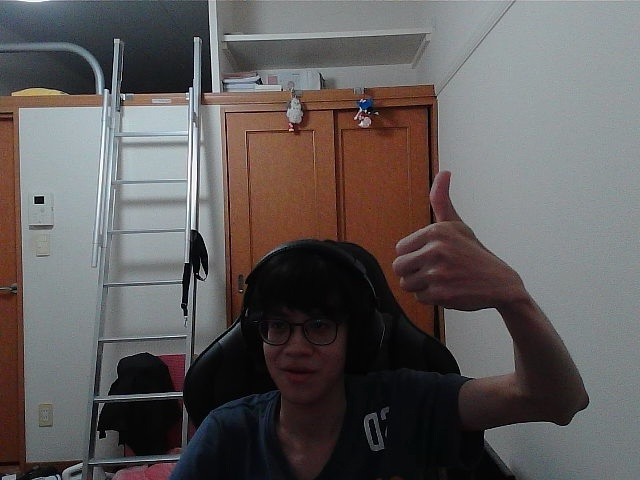thumb_up: (400, 179, 500, 297)
